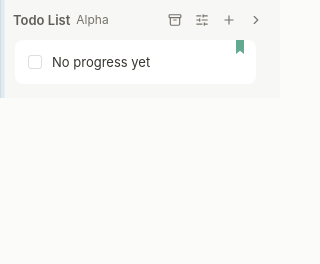
TodoRail › opens a compact focused composer with accessible priority dots
Click the button named "新增代办".
click(229, 20)  # box [217,8,242,32]
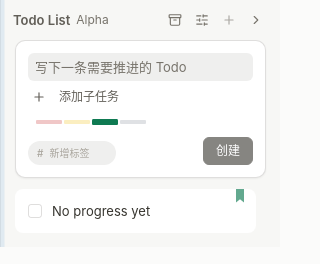
Result: the button "创建" is disabled at [203,137,253,165]
